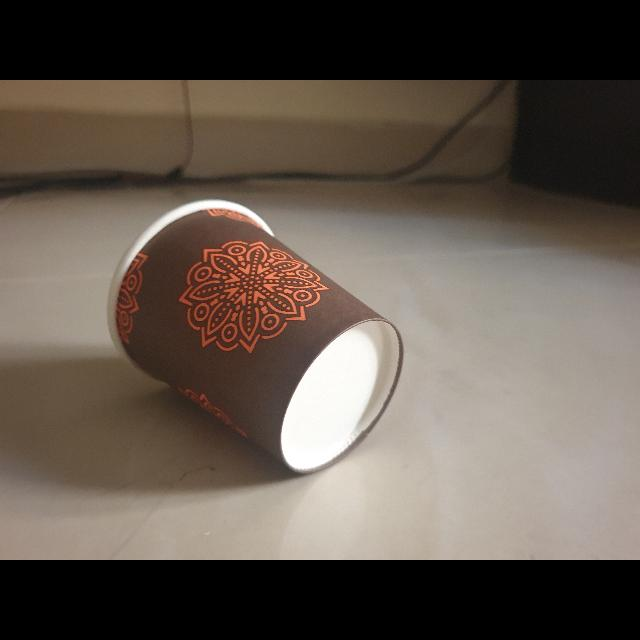trash: (107, 194, 406, 478)
